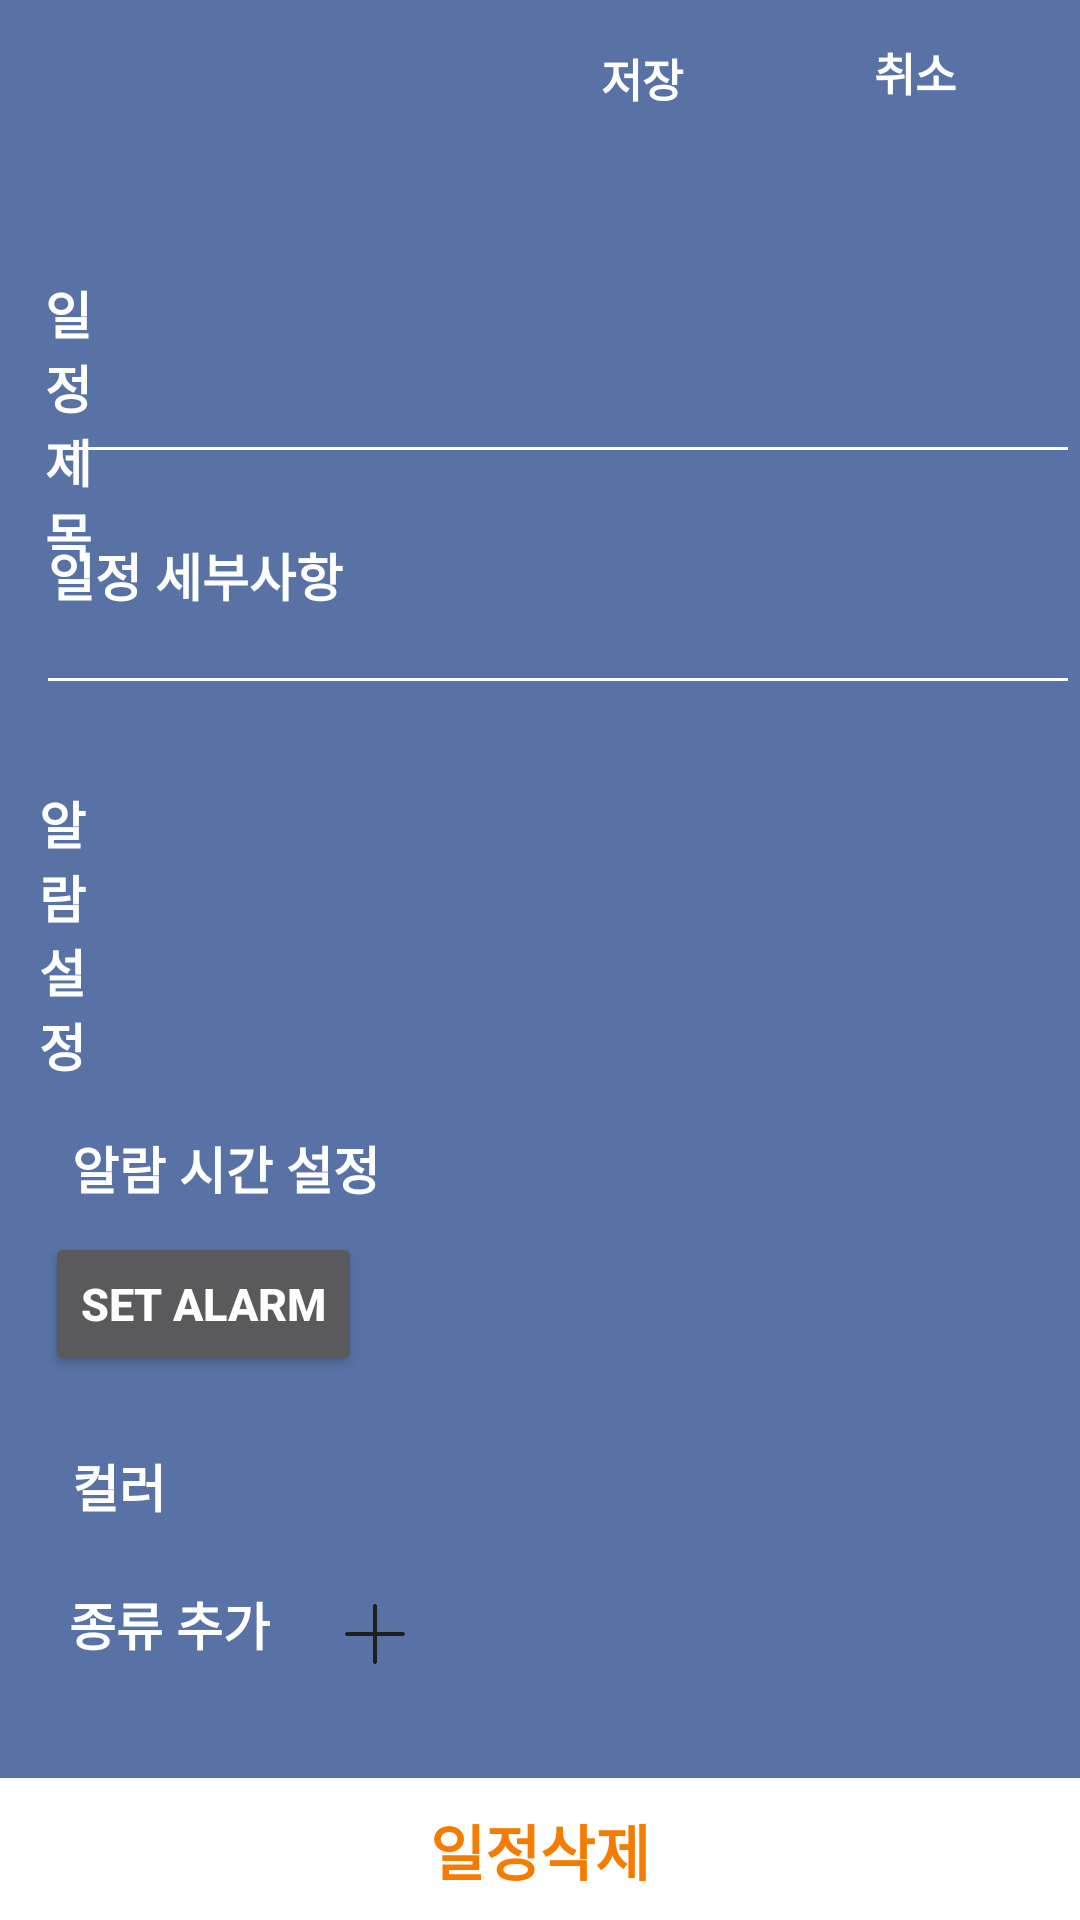

Where to tap for icons on this 1080px x 1920px app screen, as (x=x, y=y):
plus: (x=375, y=1634)
